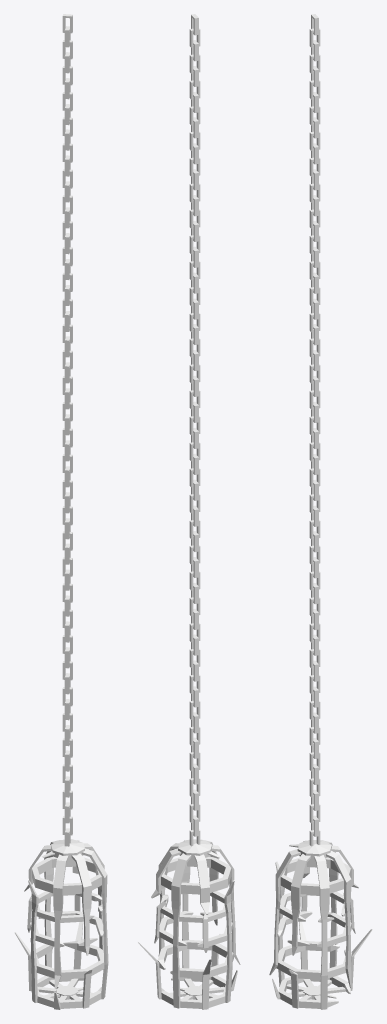
The model's file is Cage 1.fbx.
The picture shows the model from 3 angles, left to right: view 1: azimuth 30°, elevation 25°; view 2: azimuth 150°, elevation 25°; view 3: azimuth 330°, elevation 25°; orthographic projection.
Visible parts, largest first — view 1: Cage 1; view 2: Cage 1; view 3: Cage 1.
Part boxes in pixels (<box>): Cage 1: <box>14,14,108,1009</box>; Cage 1: <box>137,14,240,1009</box>; Cage 1: <box>269,14,372,1009</box>.
Bounding box in the file's own units: 393 × 4834 × 414.
1 material, 1 textured.
